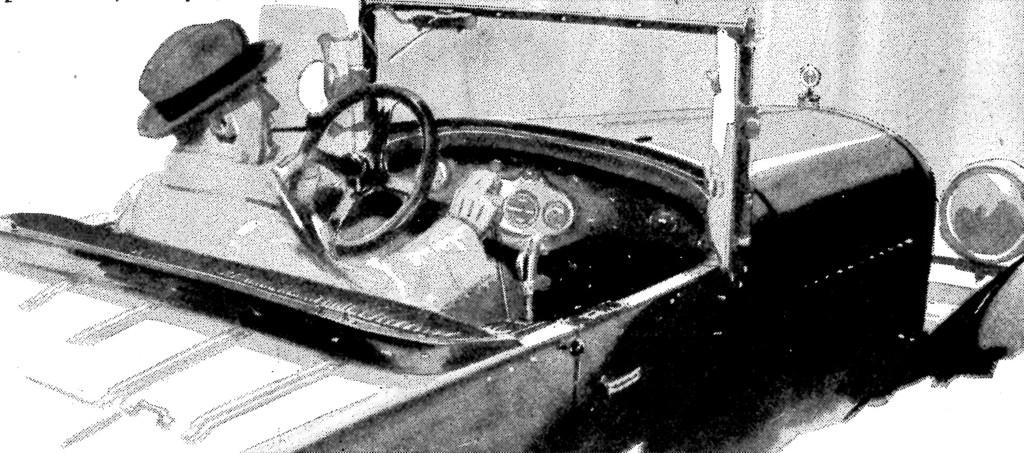Sem Máscara: (225, 68, 277, 160)
